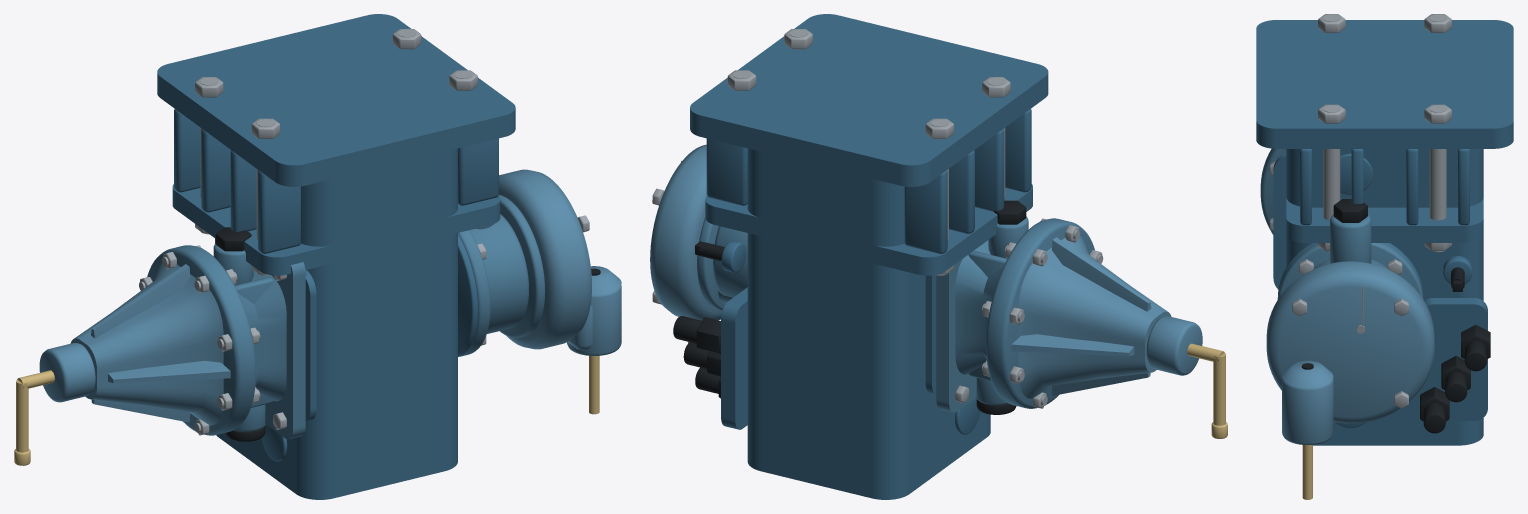
File: air_distributor_483.glb
The picture shows the model from 3 angles, left to right: view 1: azimuth 30°, elevation 25°; view 2: azimuth 150°, elevation 25°; view 3: azimuth 270°, elevation 25°; orthographic projection. The views are drawn at different scales.
Parts seen in each view (by area): view 1: ВР483_Резервуар_295.001, ВР483_Магистральная_часть_483.010, ВР483_Главная_часть_270.023; view 2: ВР483_Резервуар_295.001, ВР483_Магистральная_часть_483.010, ВР483_Главная_часть_270.023; view 3: ВР483_Резервуар_295.001, ВР483_Главная_часть_270.023, ВР483_Магистральная_часть_483.010.
Part boxes in pixels (x1,y1,x2,y2): ВР483_Резервуар_295.001: [157, 14, 515, 499]; ВР483_Магистральная_часть_483.010: [14, 227, 305, 465]; ВР483_Главная_часть_270.023: [458, 169, 621, 414]; ВР483_Резервуар_295.001: [673, 14, 1048, 499]; ВР483_Магистральная_часть_483.010: [936, 200, 1227, 438]; ВР483_Главная_часть_270.023: [650, 144, 747, 343]; ВР483_Резервуар_295.001: [1256, 14, 1513, 445]; ВР483_Главная_часть_270.023: [1266, 199, 1434, 499]; ВР483_Магистральная_часть_483.010: [1260, 148, 1286, 234].
Bounding box in the file's own units: 0.733 × 0.445 × 0.3.
